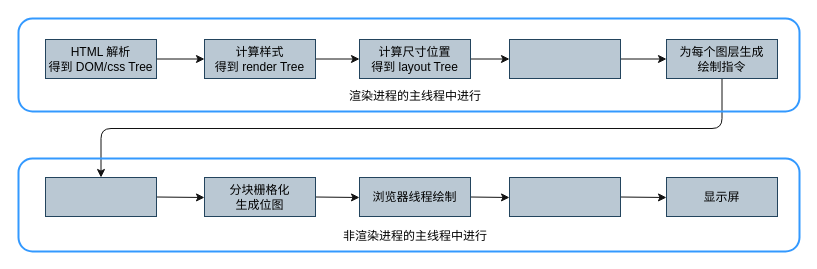
This 817x269 diagram has some shape labels left out. The centre of each missing label's shape, as x and y in pixels:
"分层 得到 layer Tree" belongs at point (564, 58).
"合成线程为每个 图层分块" belongs at point (100, 196).
"显卡缓存" belongs at point (564, 196).
